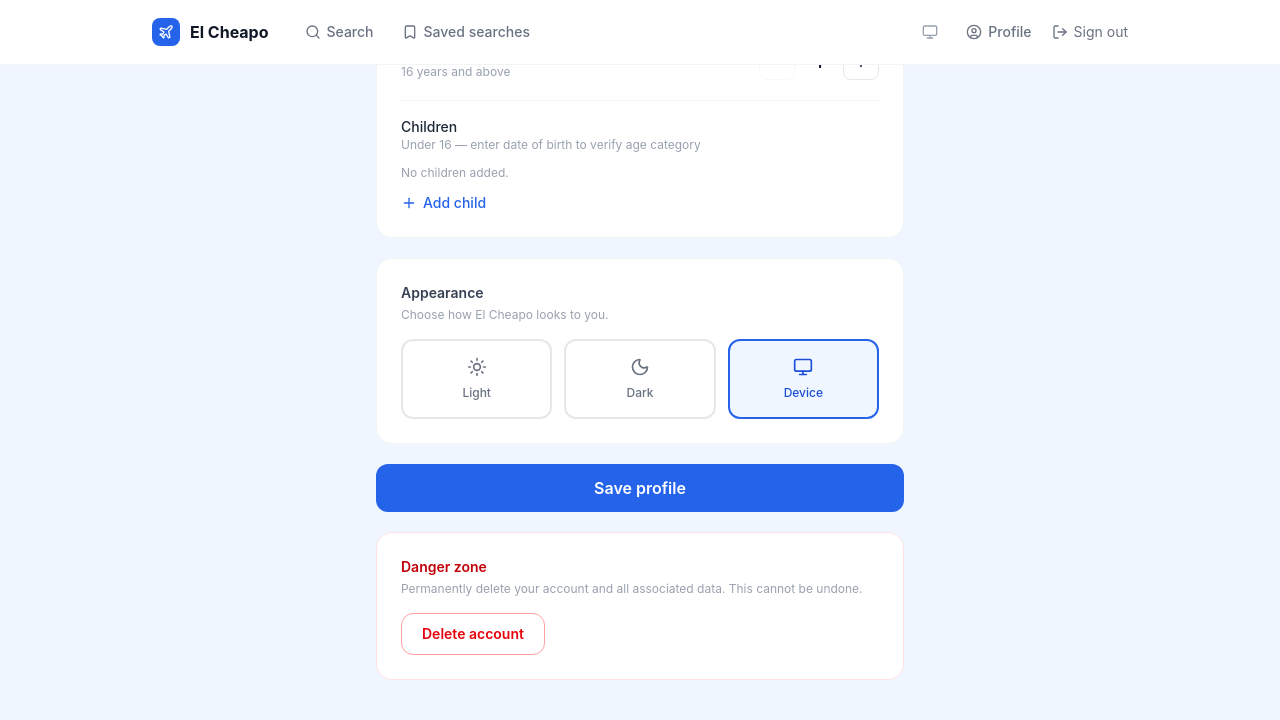
Test: Profile page › shows success message after save
(page scrolled)
Step 1. Click the button "Save profile" → x=640, y=488, box x1=376 y1=464 x2=904 y2=512
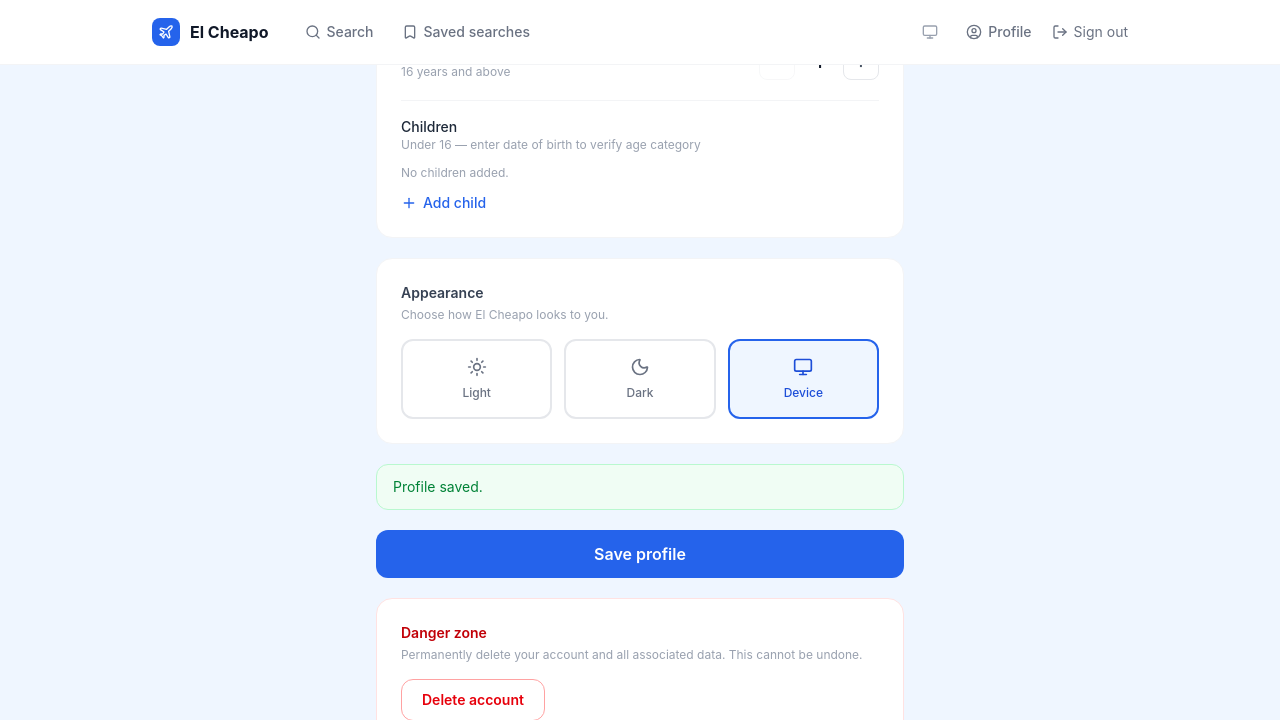
Now the text "Profile saved." is shown, box x1=376 y1=464 x2=904 y2=510
